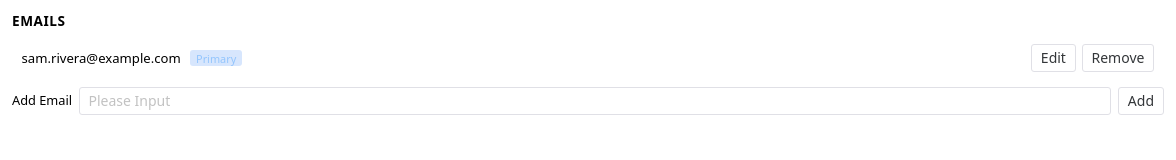
it: ContactEntryList › editing an entry PATCHes the entry and re-renders from the returned entries list
The image size is (1176, 160).
Click the button "Edit" at (1053, 58), box left=1031, top=44, right=1076, bottom=72
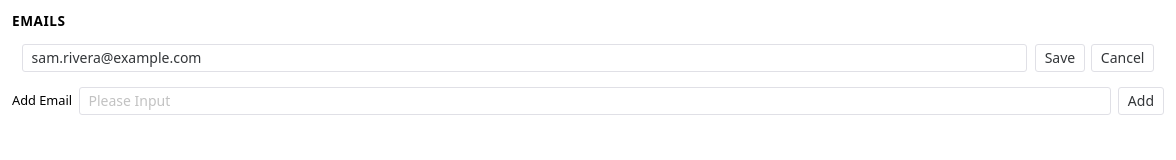
Replace the text in the field showing "sam.rivera@example.com" with "sam.p@example.com" at (524, 58), box left=32, top=44, right=1017, bottom=72
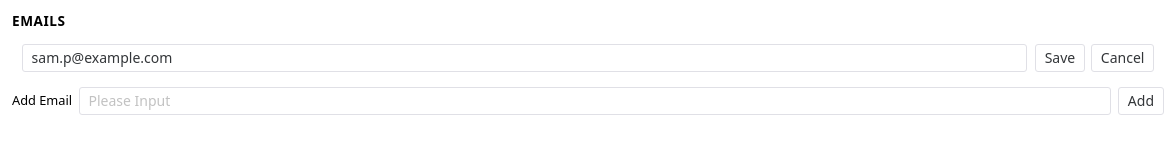
Click the button "Save" at (1060, 58), box left=1035, top=44, right=1085, bottom=72
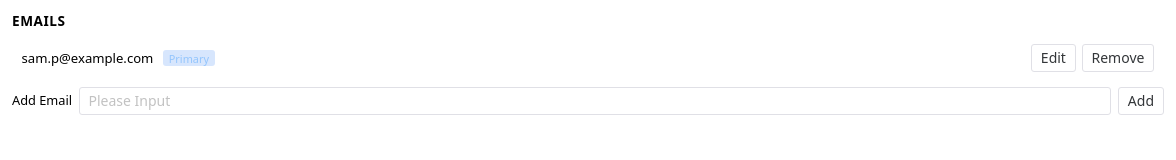
Expected: the text "sam.p@example.com Primary" is shown, left=22, top=48, right=214, bottom=69
